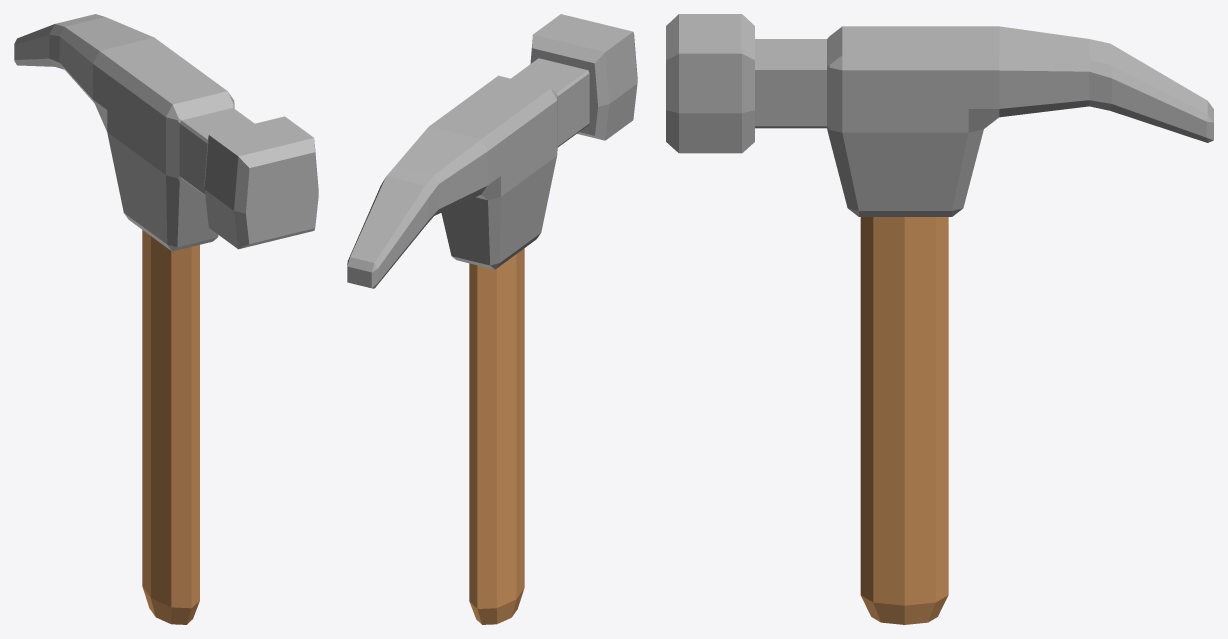
Rendered from Hammer.glb.
The picture shows the model from 3 angles, left to right: view 1: azimuth 30°, elevation 25°; view 2: azimuth 150°, elevation 25°; view 3: azimuth 270°, elevation 25°; orthographic projection. The views are drawn at different scales.
Parts seen in each view (by area): view 1: Hammer; view 2: Hammer; view 3: Hammer.
Part boxes in pixels (x1,y1,x2,y2): Hammer: [14, 14, 318, 624]; Hammer: [347, 14, 637, 624]; Hammer: [666, 14, 1213, 624].
Bounding box in the file's own units: 8.08 × 49.58 × 42.21.
